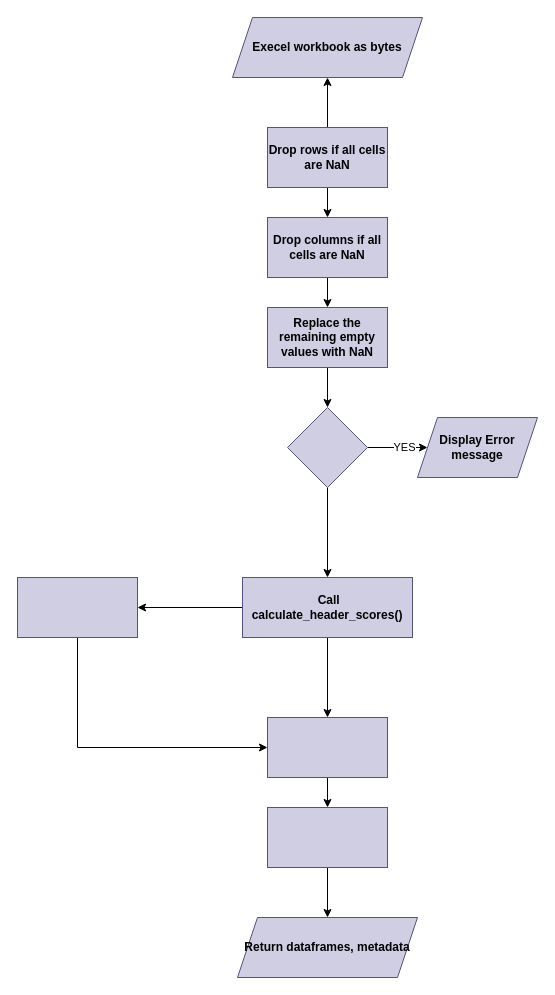
The diagram is 555 pixels wide and 995 high, and some of its shapes have lost their labels. Each missing label, with the centre of its shape:
Break into smaller dataframe with 100 rows each: [327,837]
Build up dataframe body: [327,747]
Get Headers: [77,607]
Is remaining df empty?: [327,447]
